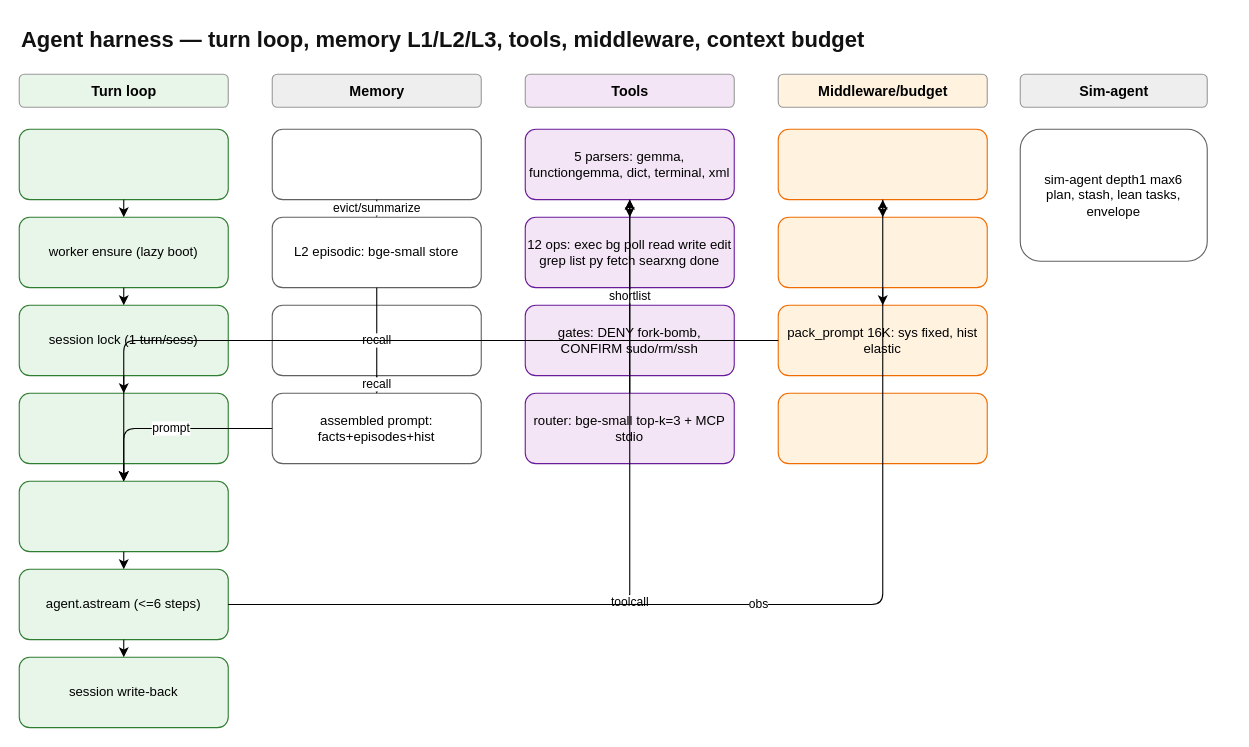
Image size: 1249x747. Some labels were removed from this diagram. The box of each missing label's shape, as (x1, y1, x2, y2) in pixels:
budgets: bonsai 16K, qwen 8K: (777, 392, 987, 464)
graph build (deepagents): (18, 480, 228, 552)
InjectTool top-k + Summarizer: (777, 216, 987, 288)
L1 working: sessions JSON, 20 turns: (271, 128, 481, 200)
L3 facts: s-p-o facts.md: (271, 304, 481, 376)
sandbox box (cwd): (18, 392, 228, 464)
text + sid: (18, 128, 228, 200)
write_todos + TrimObs 1500: (777, 128, 987, 200)
